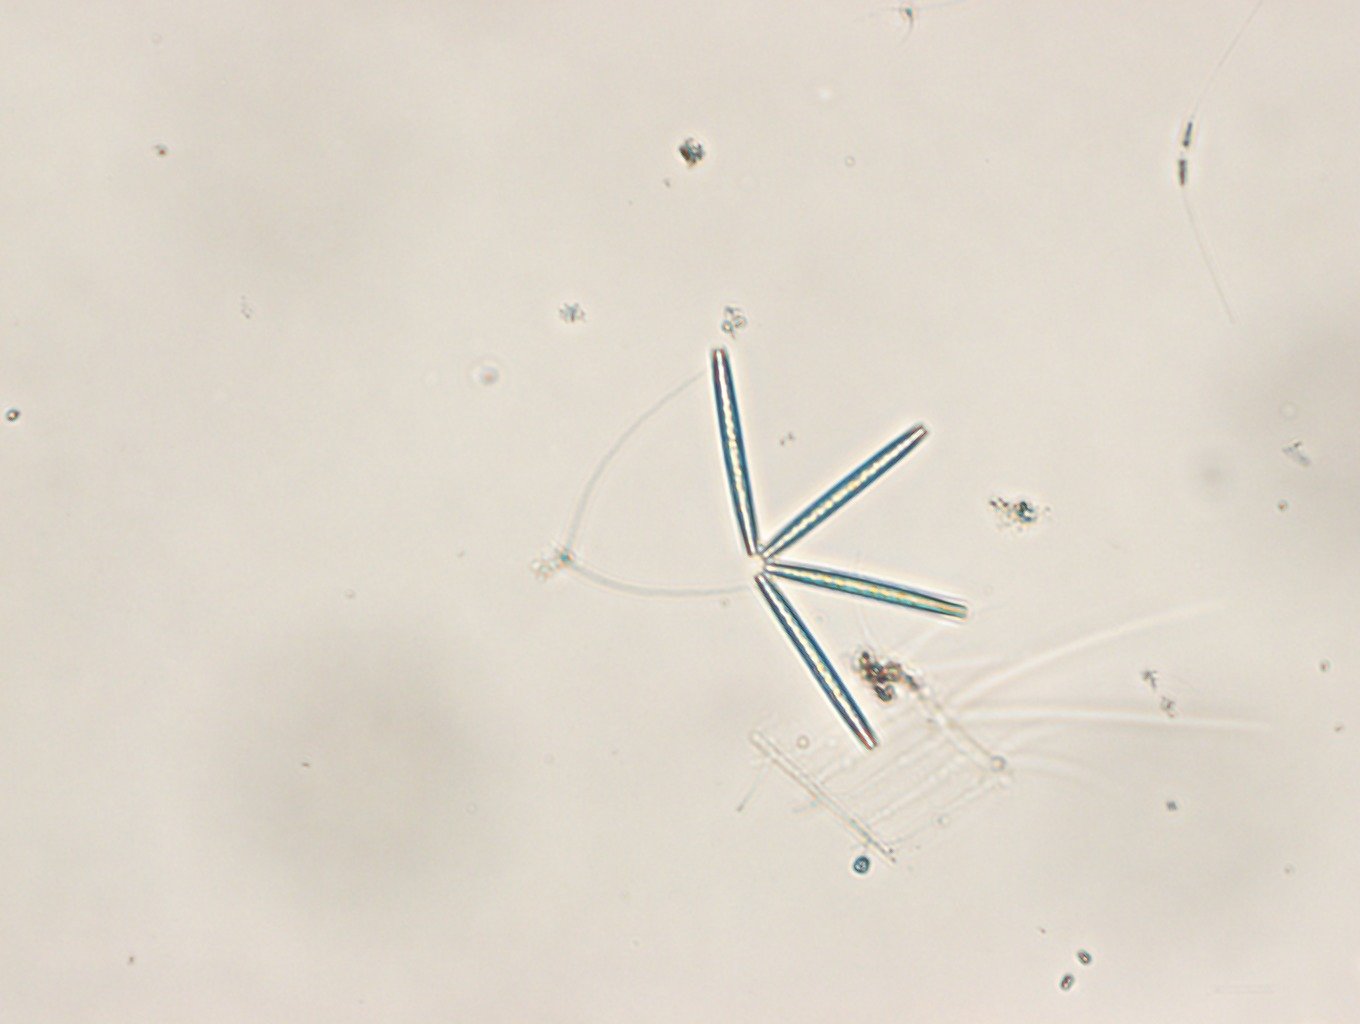thalassionema nitzschioides: (712, 349, 970, 751)
